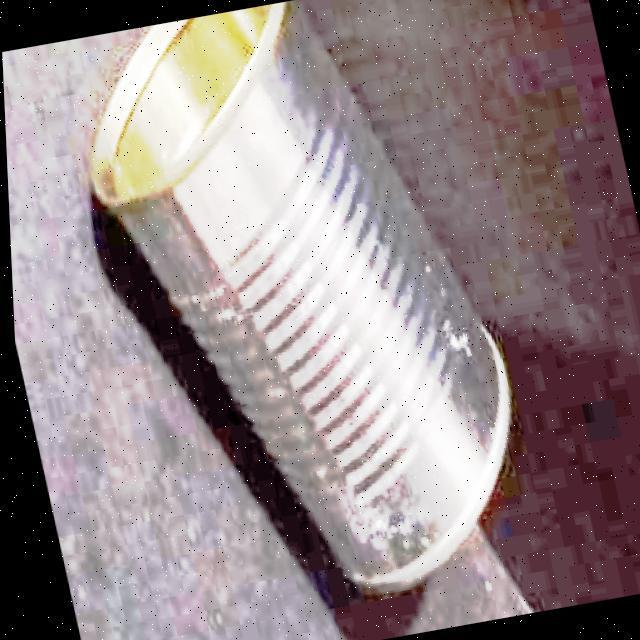Lata: (90, 4, 510, 608)
